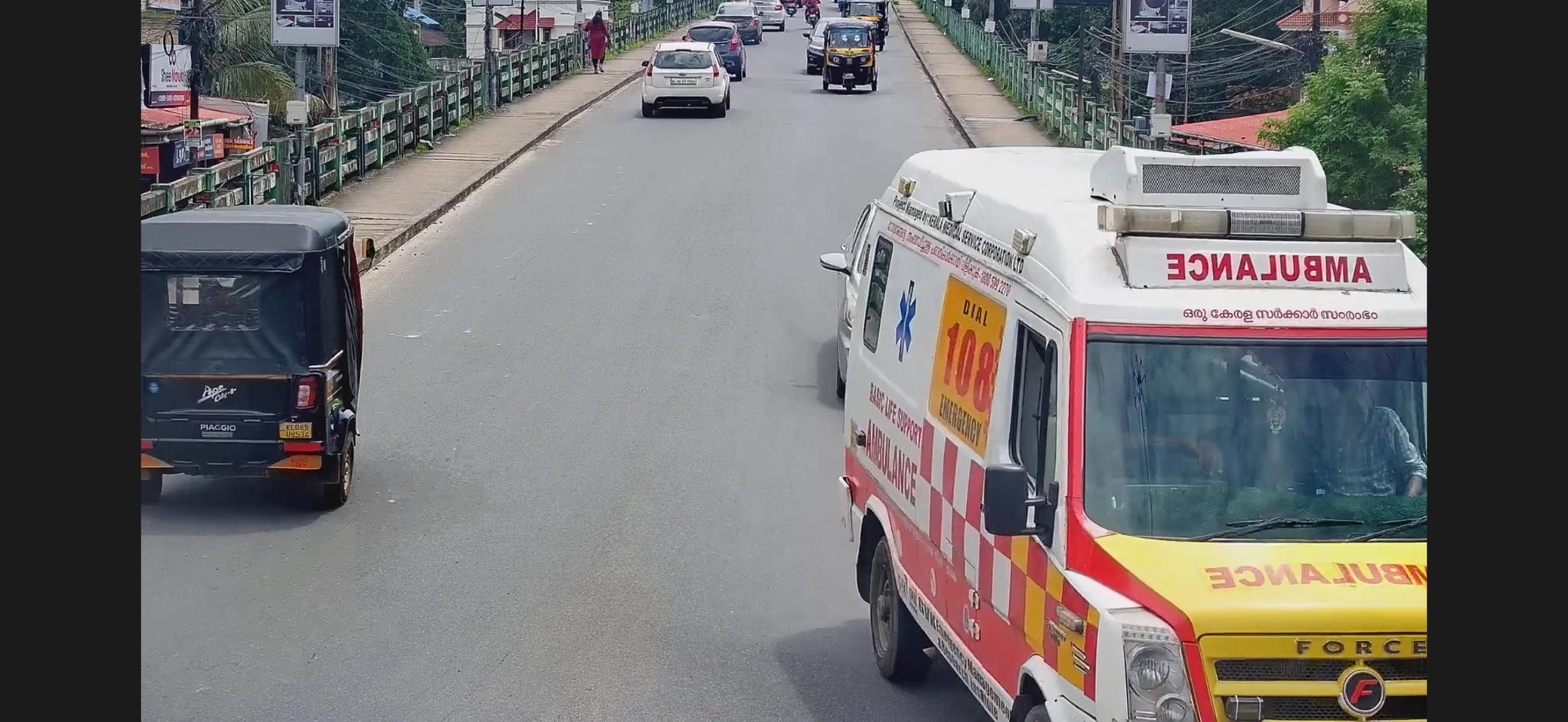ambulance: (859, 135, 1436, 721)
